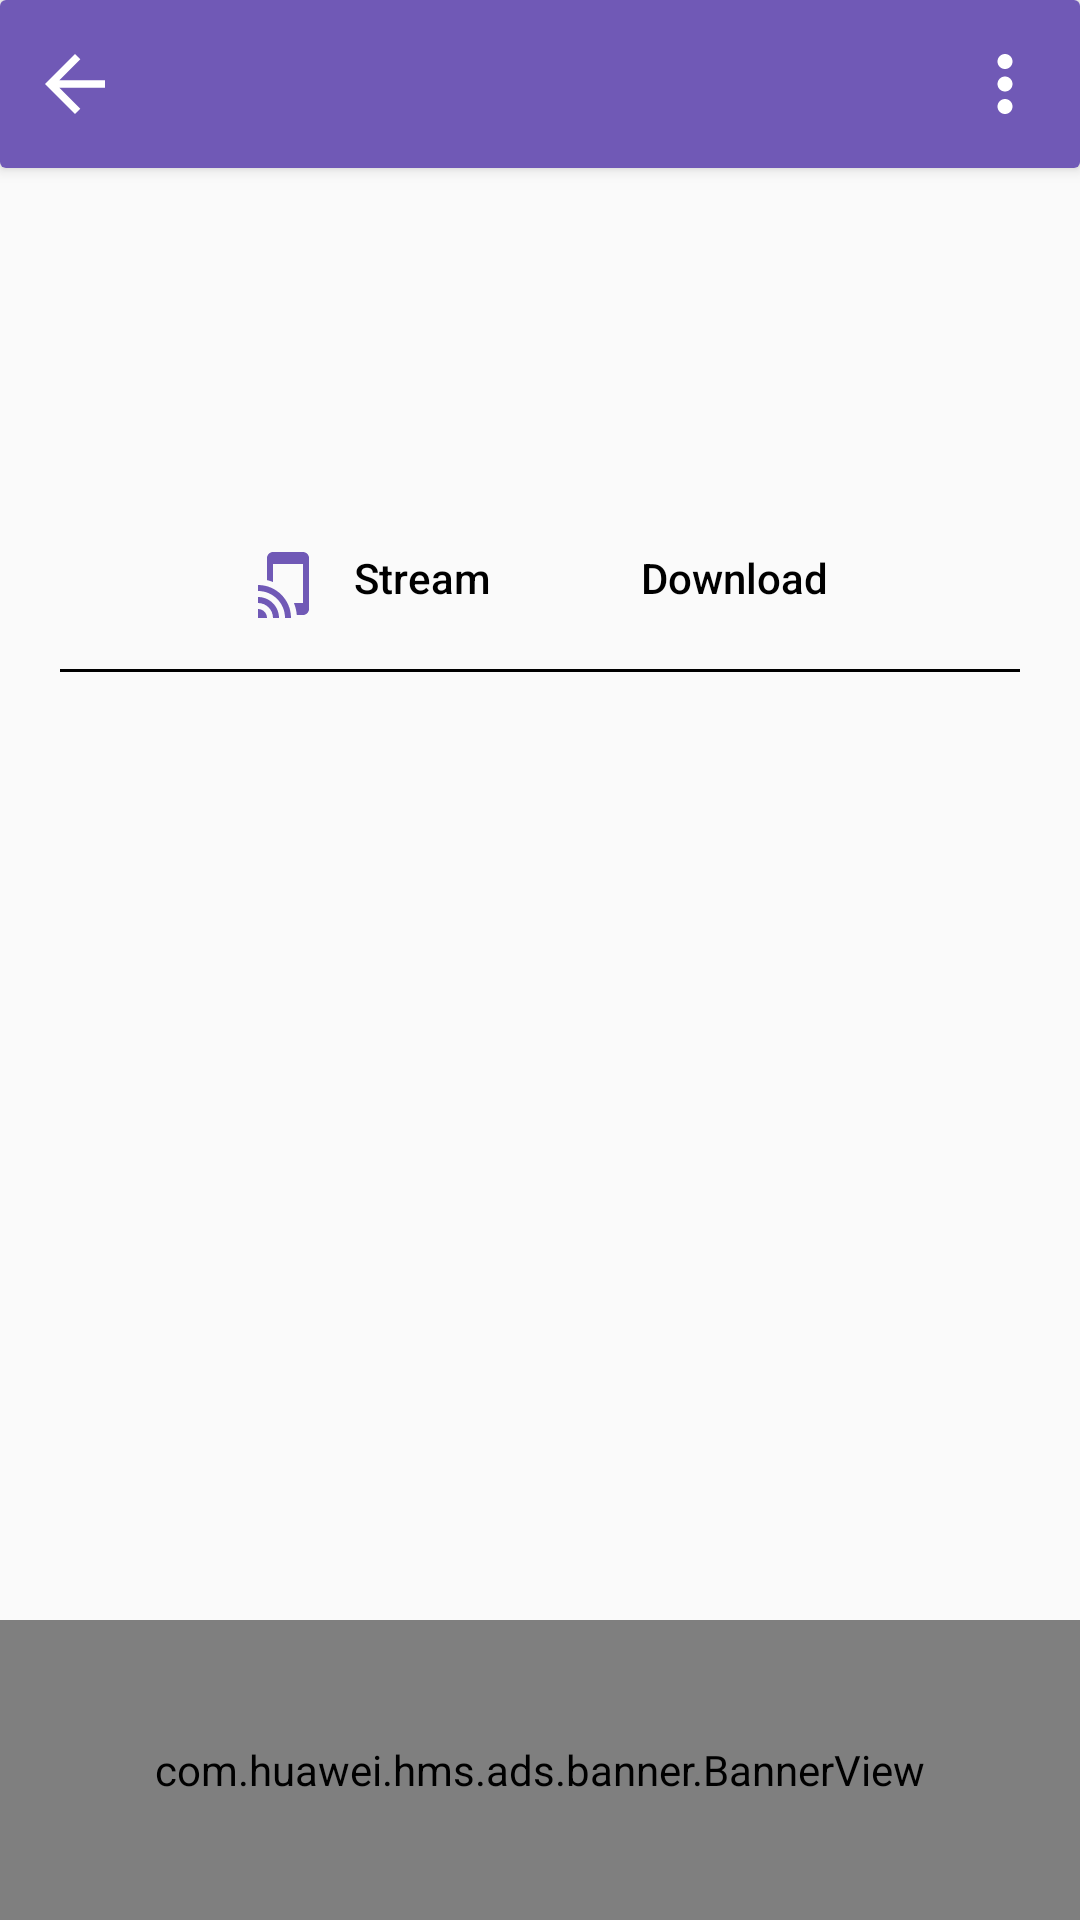

Screen size 1080x1920. Icon name, then its center in pixels as point (x, y):
back arrow: point (75, 84)
more ver: point (1005, 84)
